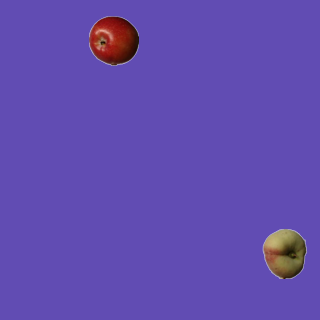Apple Braeburn: (88, 15, 138, 65)
Peach Flat: (259, 228, 309, 278)
